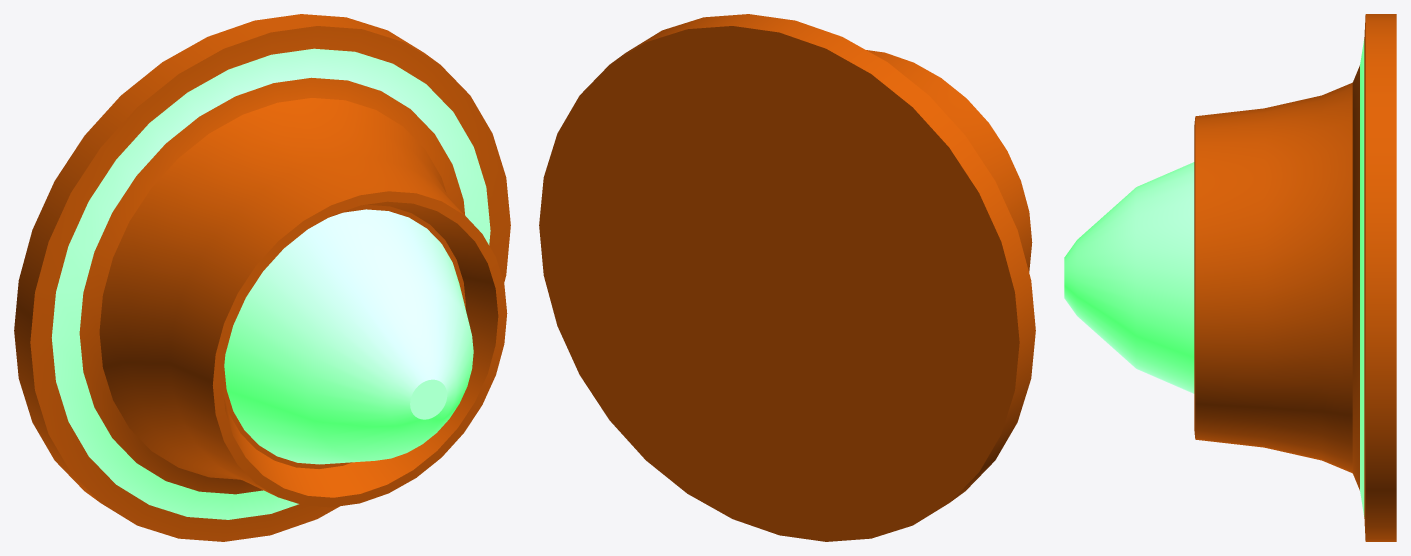
File: LedNave.fbx
The picture shows the model from 3 angles, left to right: view 1: azimuth 30°, elevation 25°; view 2: azimuth 150°, elevation 25°; view 3: azimuth 270°, elevation 25°; orthographic projection. The views are drawn at different scales.
Parts seen in each view (by area): view 1: Led.001; view 2: Led.001; view 3: Led.001.
Part boxes in pixels (x1,y1,x2,y2): Led.001: [14, 14, 510, 541]; Led.001: [539, 14, 1035, 541]; Led.001: [1064, 14, 1396, 541].
Bounding box in the file's own units: 29.34 × 29.34 × 18.43.
